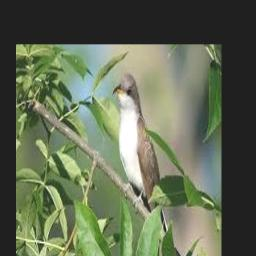Cuckoo: (112, 74, 171, 243)
